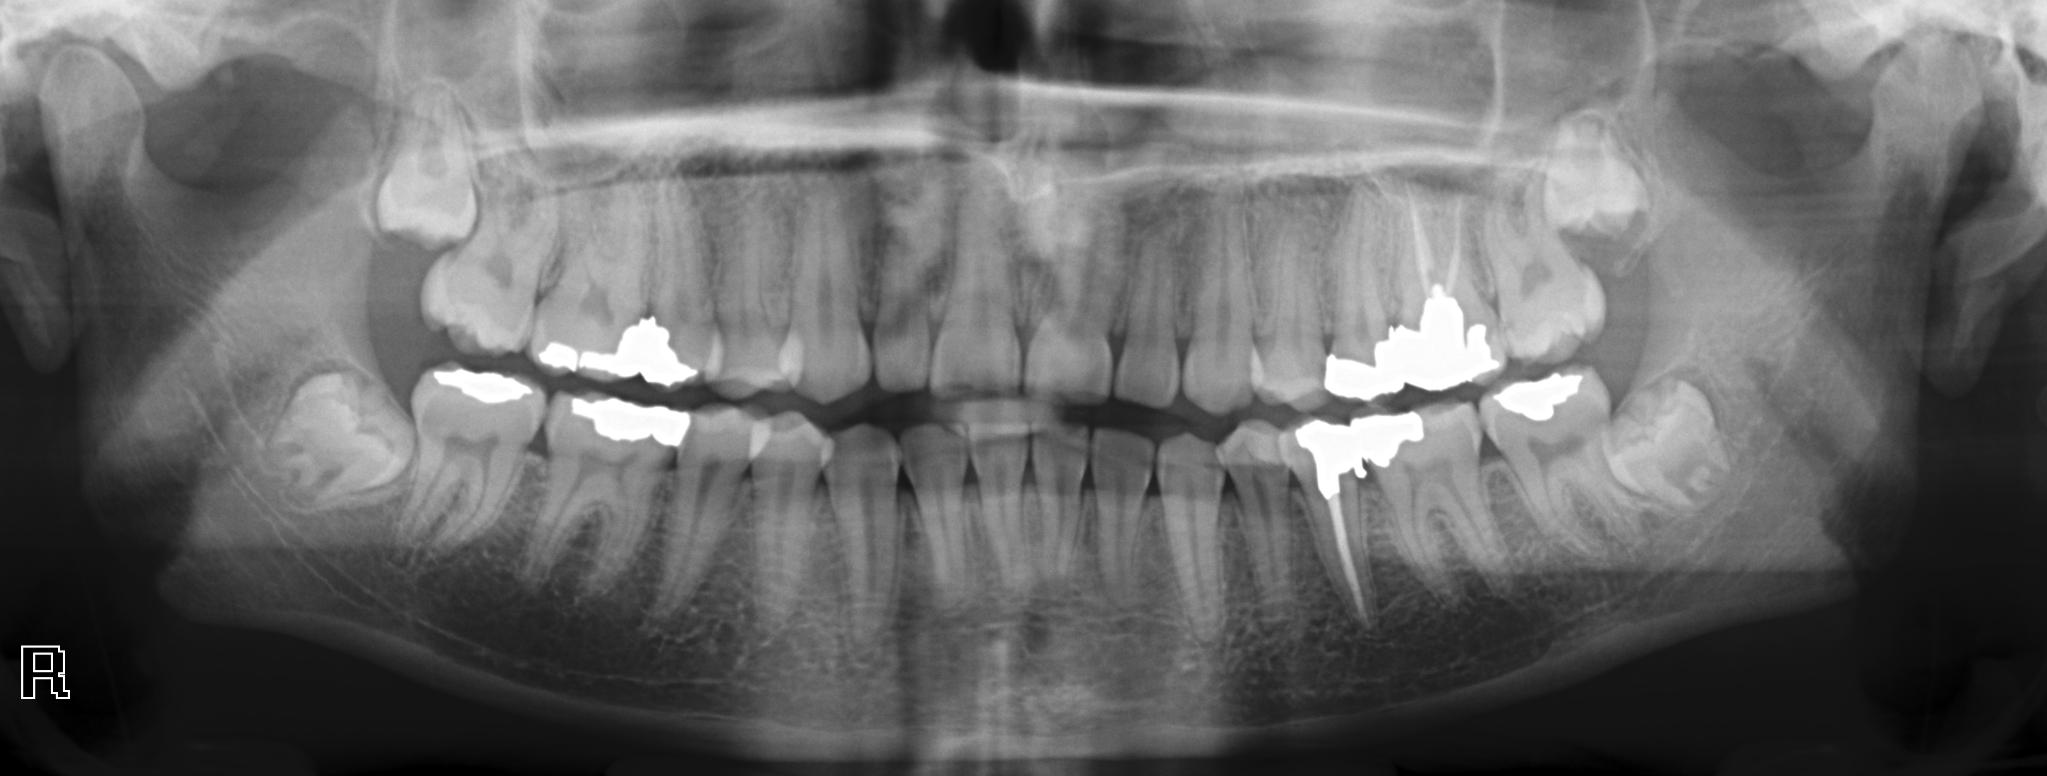Fillings: (535, 396, 689, 594), (1479, 364, 1627, 555), (527, 172, 649, 385), (405, 363, 539, 550), (1322, 196, 1401, 405)
Implant: (1383, 188, 1505, 401), (1286, 410, 1385, 644)
